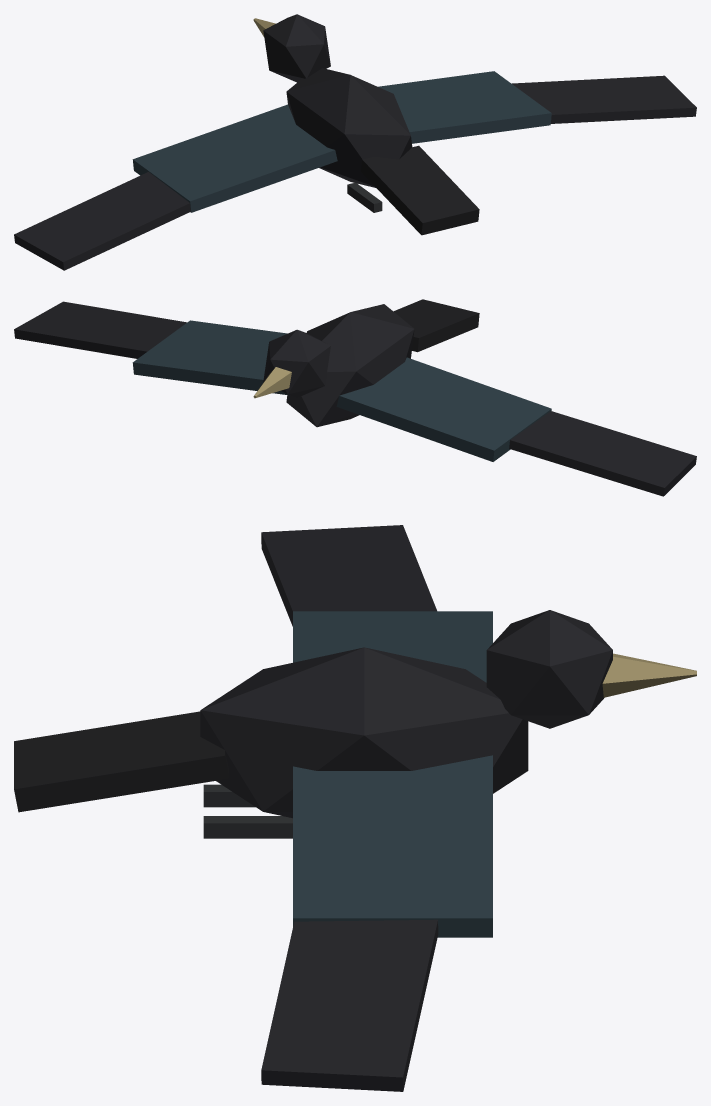
File: crow_fly_f3.glb
The picture shows the model from 3 angles, top to bottom: view 1: azimuth 30°, elevation 25°; view 2: azimuth 150°, elevation 25°; view 3: azimuth 270°, elevation 25°; orthographic projection. The views are drawn at different scales.
Parts seen in each view (by area): view 1: crow_fly_f3; view 2: crow_fly_f3; view 3: crow_fly_f3.
Part boxes in pixels (x1,y1,x2,y2): crow_fly_f3: (14, 14, 696, 270); crow_fly_f3: (14, 299, 696, 496); crow_fly_f3: (14, 525, 696, 1091).
Bounding box in the file's own units: 0.9158 × 0.173 × 0.4784.
3 materials, 3 textured.
